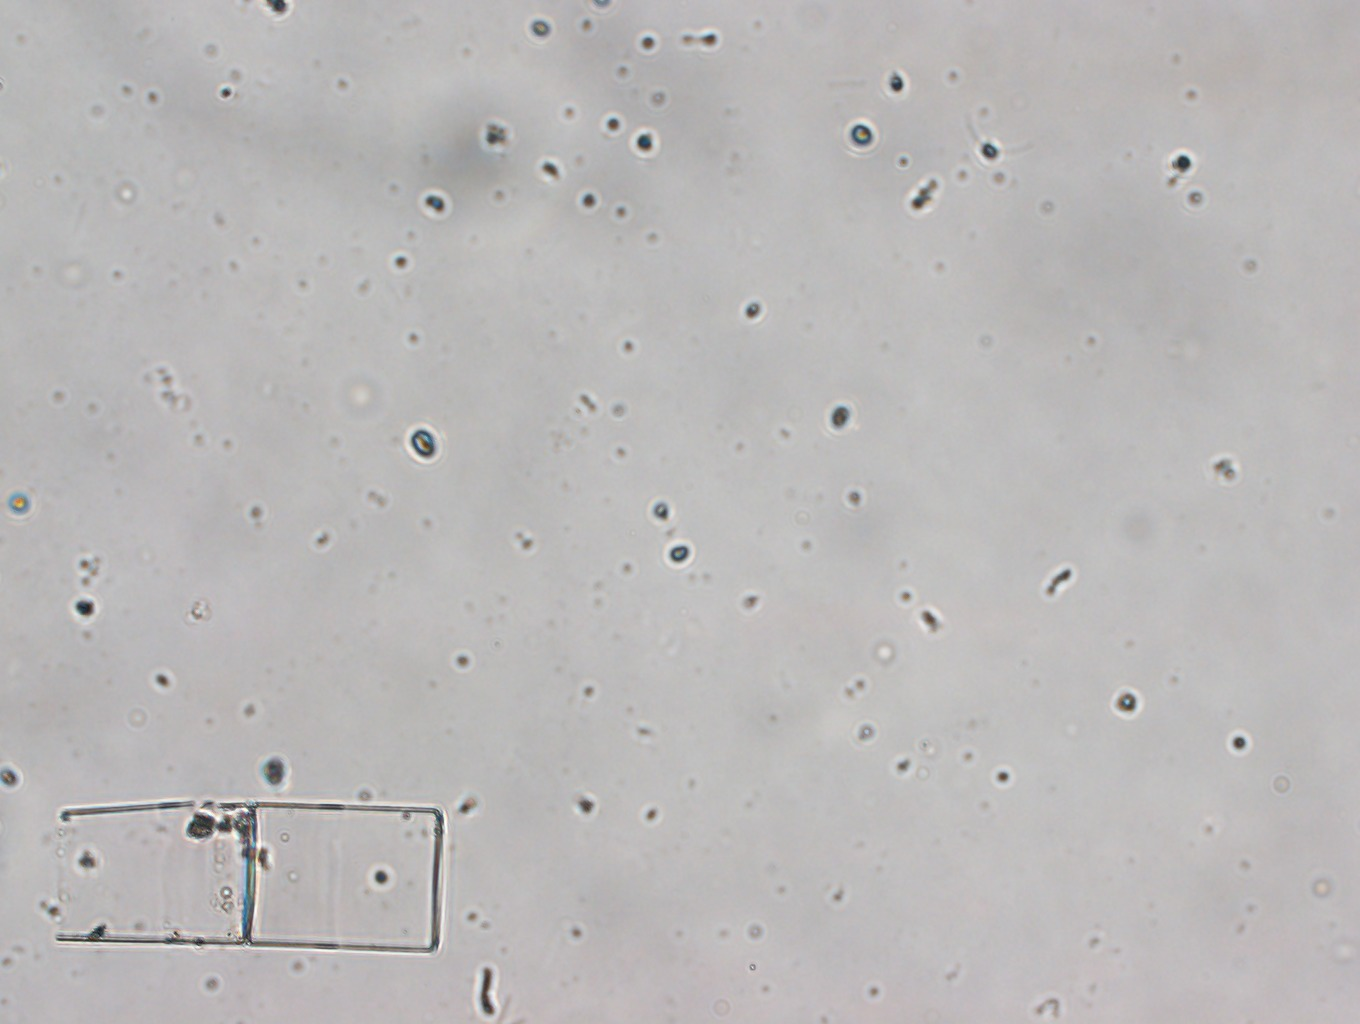guinardia flaccida: (54, 798, 445, 958)
